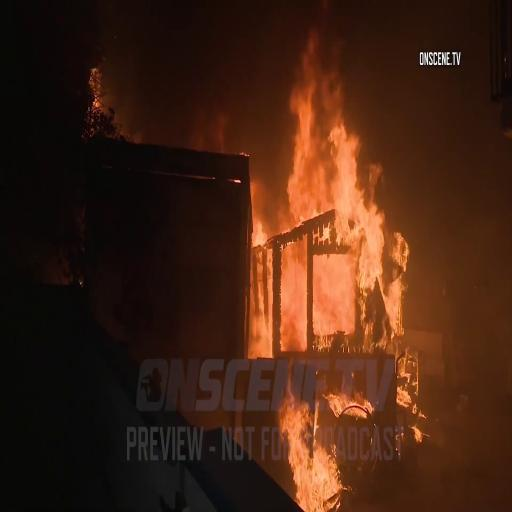fire: (246, 0, 406, 350), (279, 380, 344, 509)
